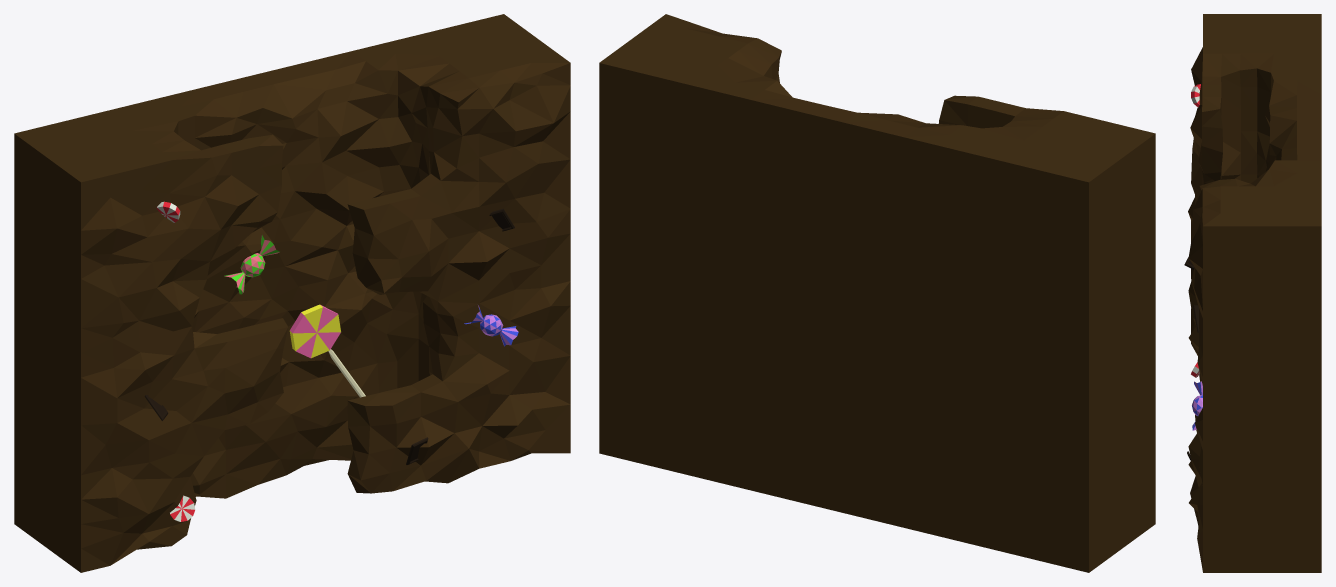
The model's file is level_Module_03.fbx.
The picture shows the model from 3 angles, left to right: view 1: azimuth 30°, elevation 25°; view 2: azimuth 150°, elevation 25°; view 3: azimuth 270°, elevation 25°; orthographic projection. The views are drawn at different scales.
Parts seen in each view (by area): view 1: Cube, Cylinder, Candy, Candy.001; view 2: Cube; view 3: Cube, Candy.001.
Boxes of the visible parts, x1,y1,x2,y2 form: Cube: (14, 14, 570, 572); Cylinder: (289, 304, 365, 397); Candy: (224, 235, 279, 294); Candy.001: (464, 305, 518, 346); Cube: (599, 14, 1155, 572); Cube: (1188, 14, 1321, 572); Candy.001: (1192, 381, 1202, 430).
Bounding box in the file's own units: 2100 × 1600 × 575.
